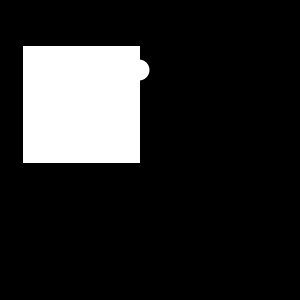circle: (23, 46, 140, 163)
rectangle: (128, 60, 150, 80)
